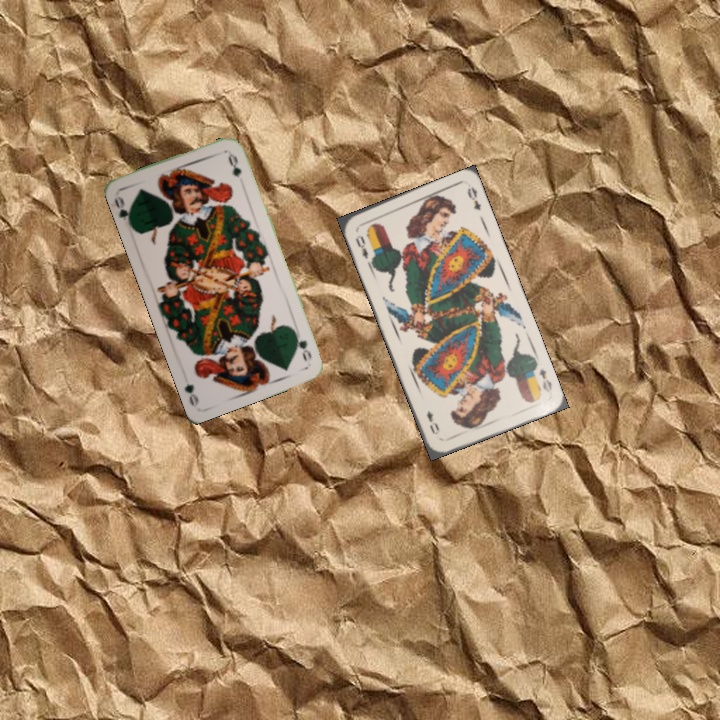EO: (351, 231, 371, 261), (535, 365, 555, 395)
GO: (110, 192, 135, 230), (291, 327, 314, 364)
